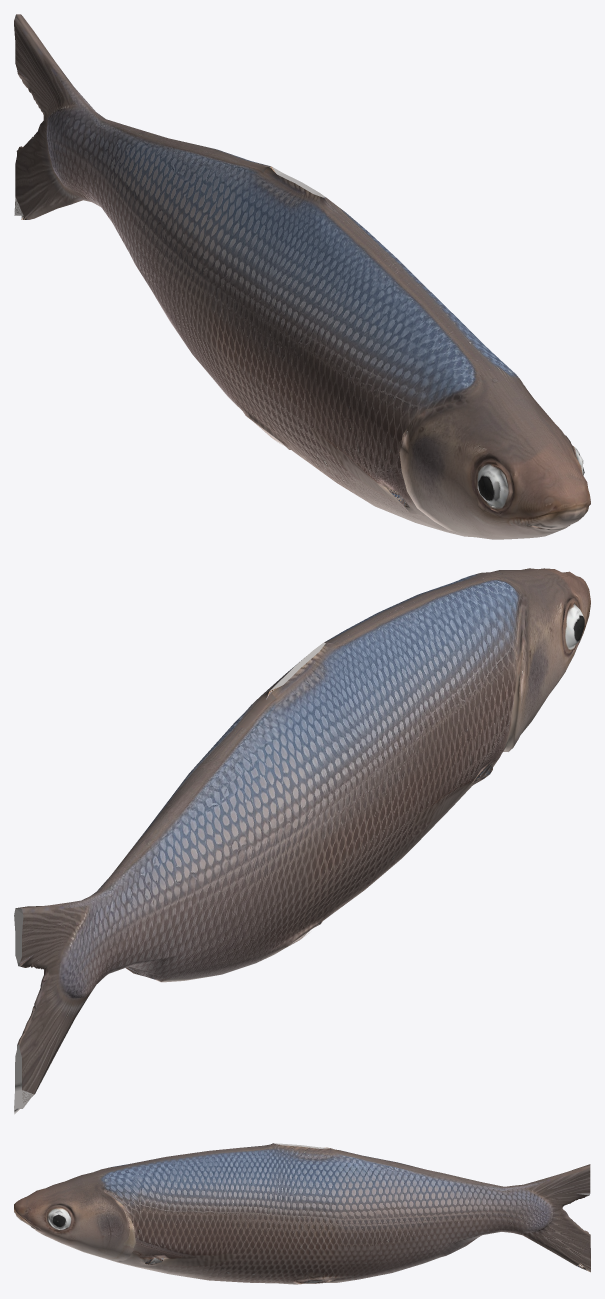
The model's file is BangusCUTTEDFIN.opt.glb.
3 renders of one model, top to bottom at view 1: azimuth 30°, elevation 25°; view 2: azimuth 150°, elevation 25°; view 3: azimuth 270°, elevation 25°, orthographic. The views are drawn at different scales.
Parts seen in each view (by area): view 1: world; view 2: world; view 3: world.
Boxes of the visible parts, x1=… form: world: x1=14, y1=14, x2=590, y2=539; world: x1=14, y1=568, x2=590, y2=1114; world: x1=14, y1=1143, x2=590, y2=1284.
Bounding box in the file's own units: 0.1114 × 0.2362 × 0.8871.
1 material, 1 textured.
